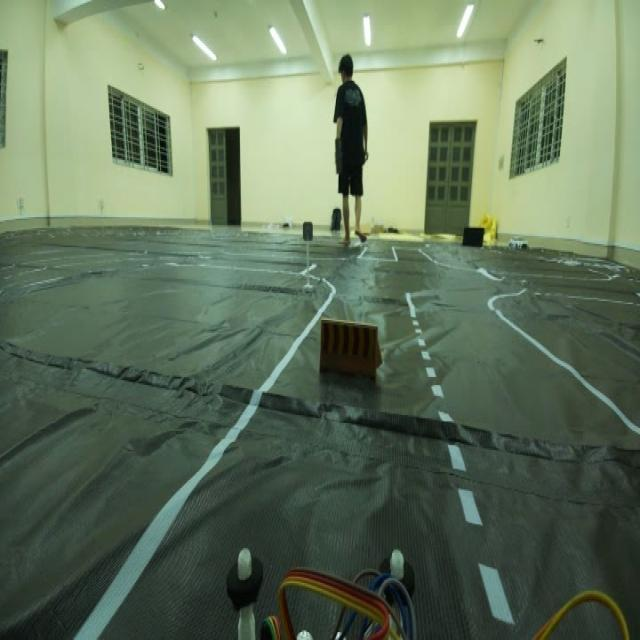roadblock: (317, 306, 388, 399)
